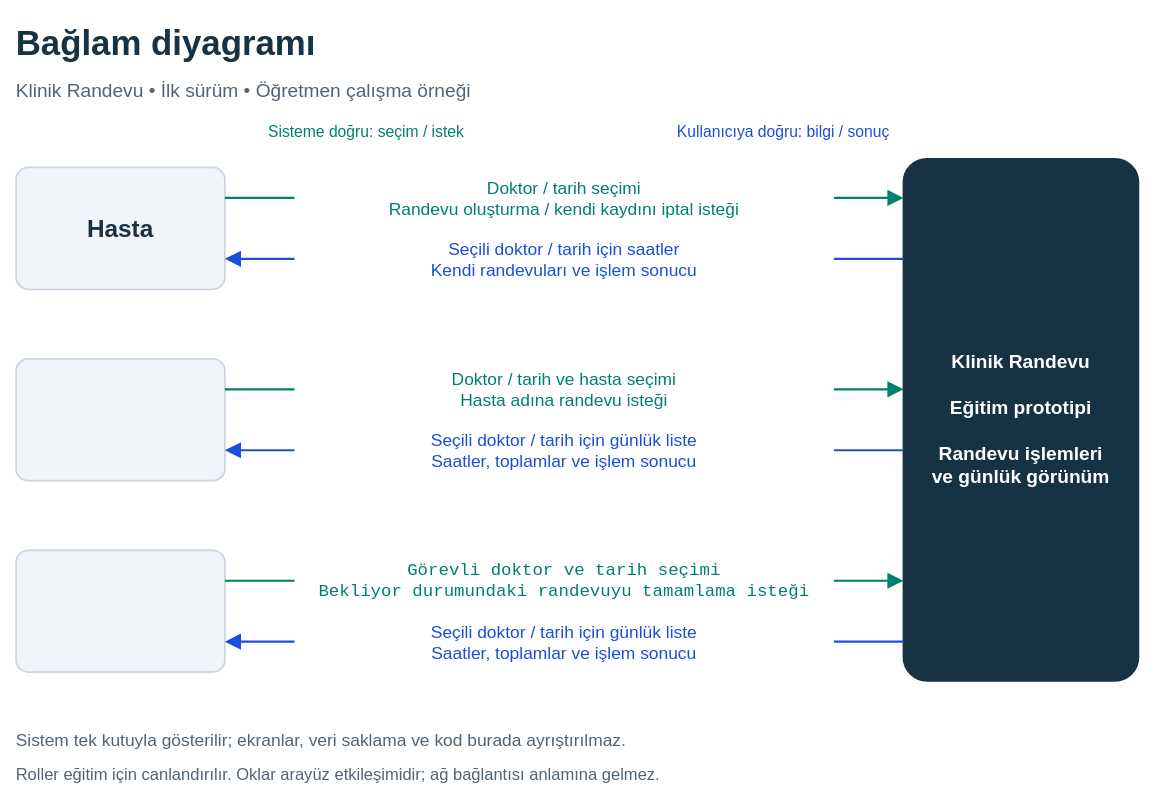
Some shapes in this 1154 by 805 pixel diagram are drawn without their labels. The centre of each missing label's shape, as x and y in pixels:
"Doktor" belongs at point (120, 611).
"Resepsiyon" belongs at point (120, 419).
